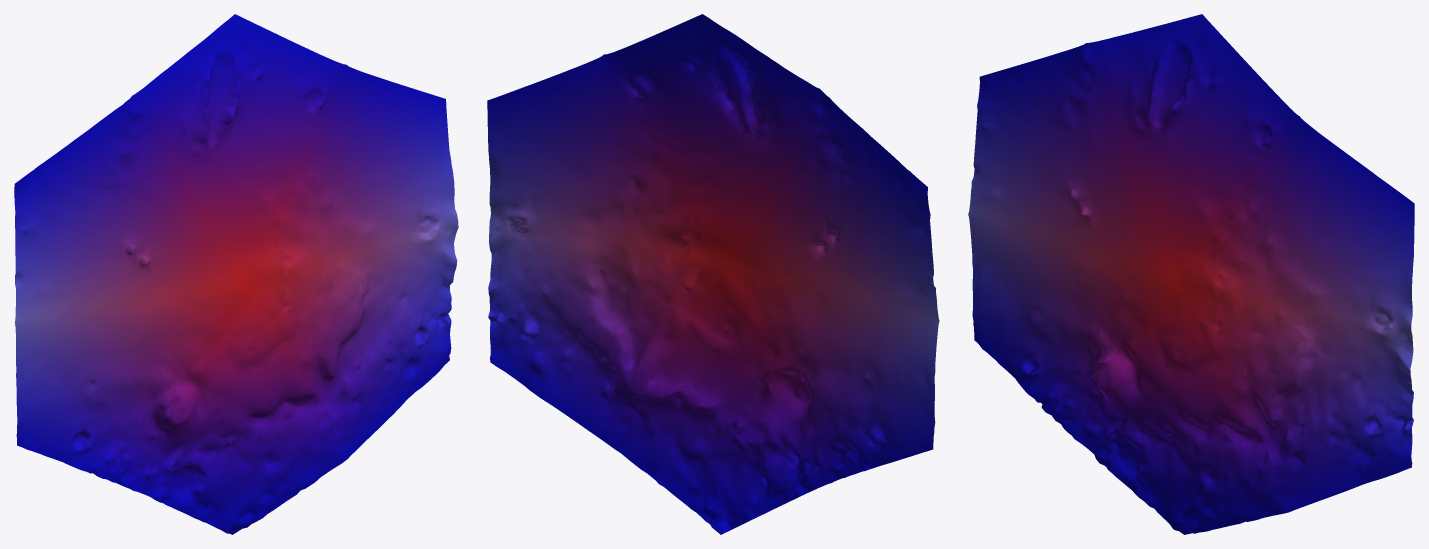
Rendered from Hex_08.fbx.
3 views of the same model, side by side, from view 1: azimuth 30°, elevation 25°; view 2: azimuth 150°, elevation 25°; view 3: azimuth 330°, elevation 25° (orthographic). The views are drawn at different scales.
Parts seen in each view (by area): view 1: Hex_08; view 2: Hex_08; view 3: Hex_08.
Boxes of the visible parts, x1,y1,x2,y2 form: Hex_08: (14,14,458,534); Hex_08: (487,14,939,534); Hex_08: (968,14,1414,534).
Size of the model in its own units: 456 by 506 by 39.03.
